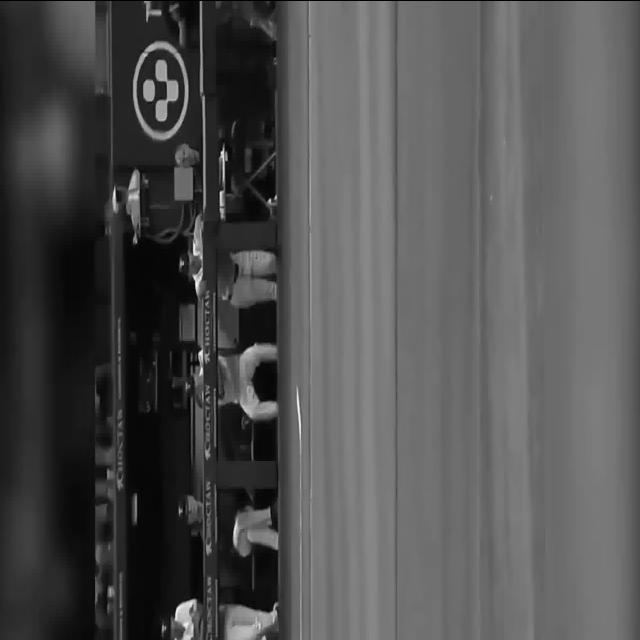shoe: (272, 601, 279, 631), (266, 194, 278, 210)
